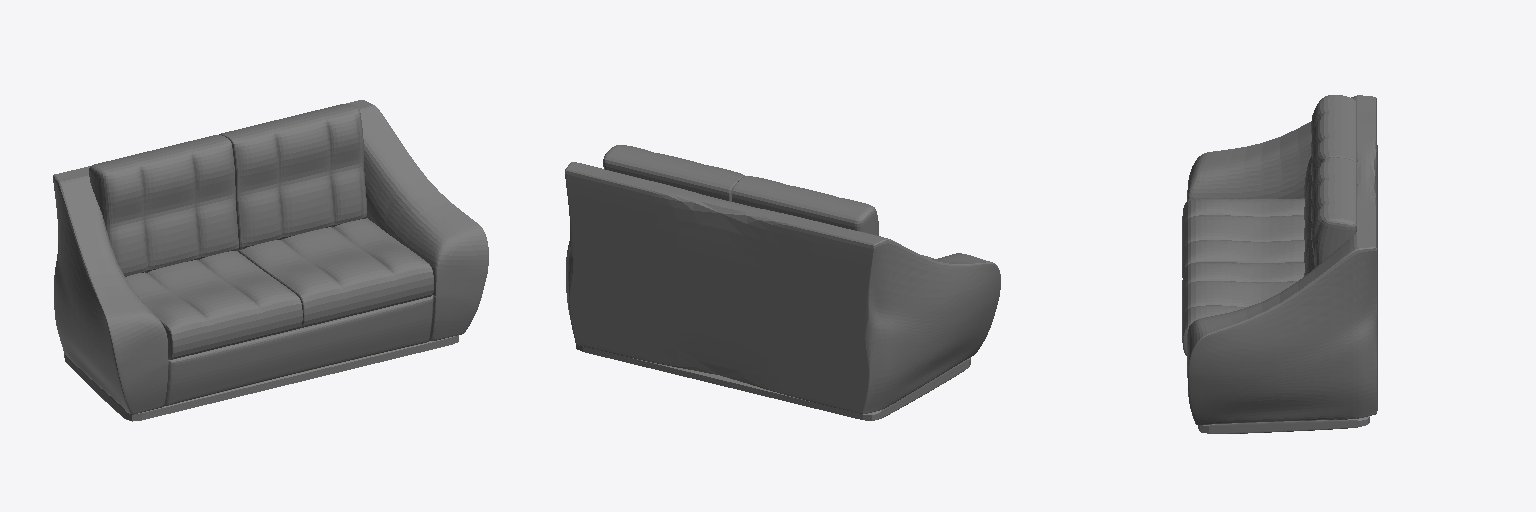
The model's file is sofa2.obj.
The picture shows the model from 3 angles: view 1: azimuth 30°, elevation 25°; view 2: azimuth 150°, elevation 25°; view 3: azimuth 270°, elevation 25°; orthographic projection.
Parts seen in each view (by area): view 1: Mesh_Mesh.001_t_sofa2.001; view 2: Mesh_Mesh.001_t_sofa2.001; view 3: Mesh_Mesh.001_t_sofa2.001.
Part boxes in pixels (bbox=[...]): Mesh_Mesh.001_t_sofa2.001: bbox=[53, 100, 488, 421]; Mesh_Mesh.001_t_sofa2.001: bbox=[565, 145, 1000, 420]; Mesh_Mesh.001_t_sofa2.001: bbox=[1182, 95, 1377, 433].
Size of the model in its own units: 4 by 2 by 1.79.